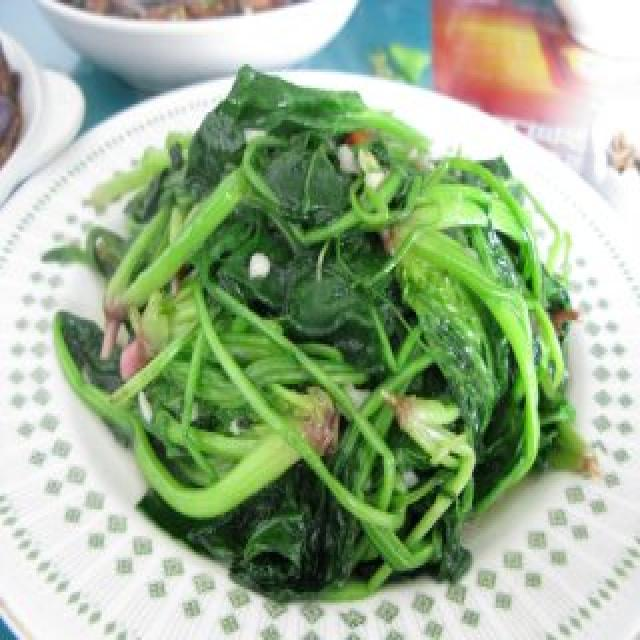蔬菜料理: (0, 21, 640, 640)
